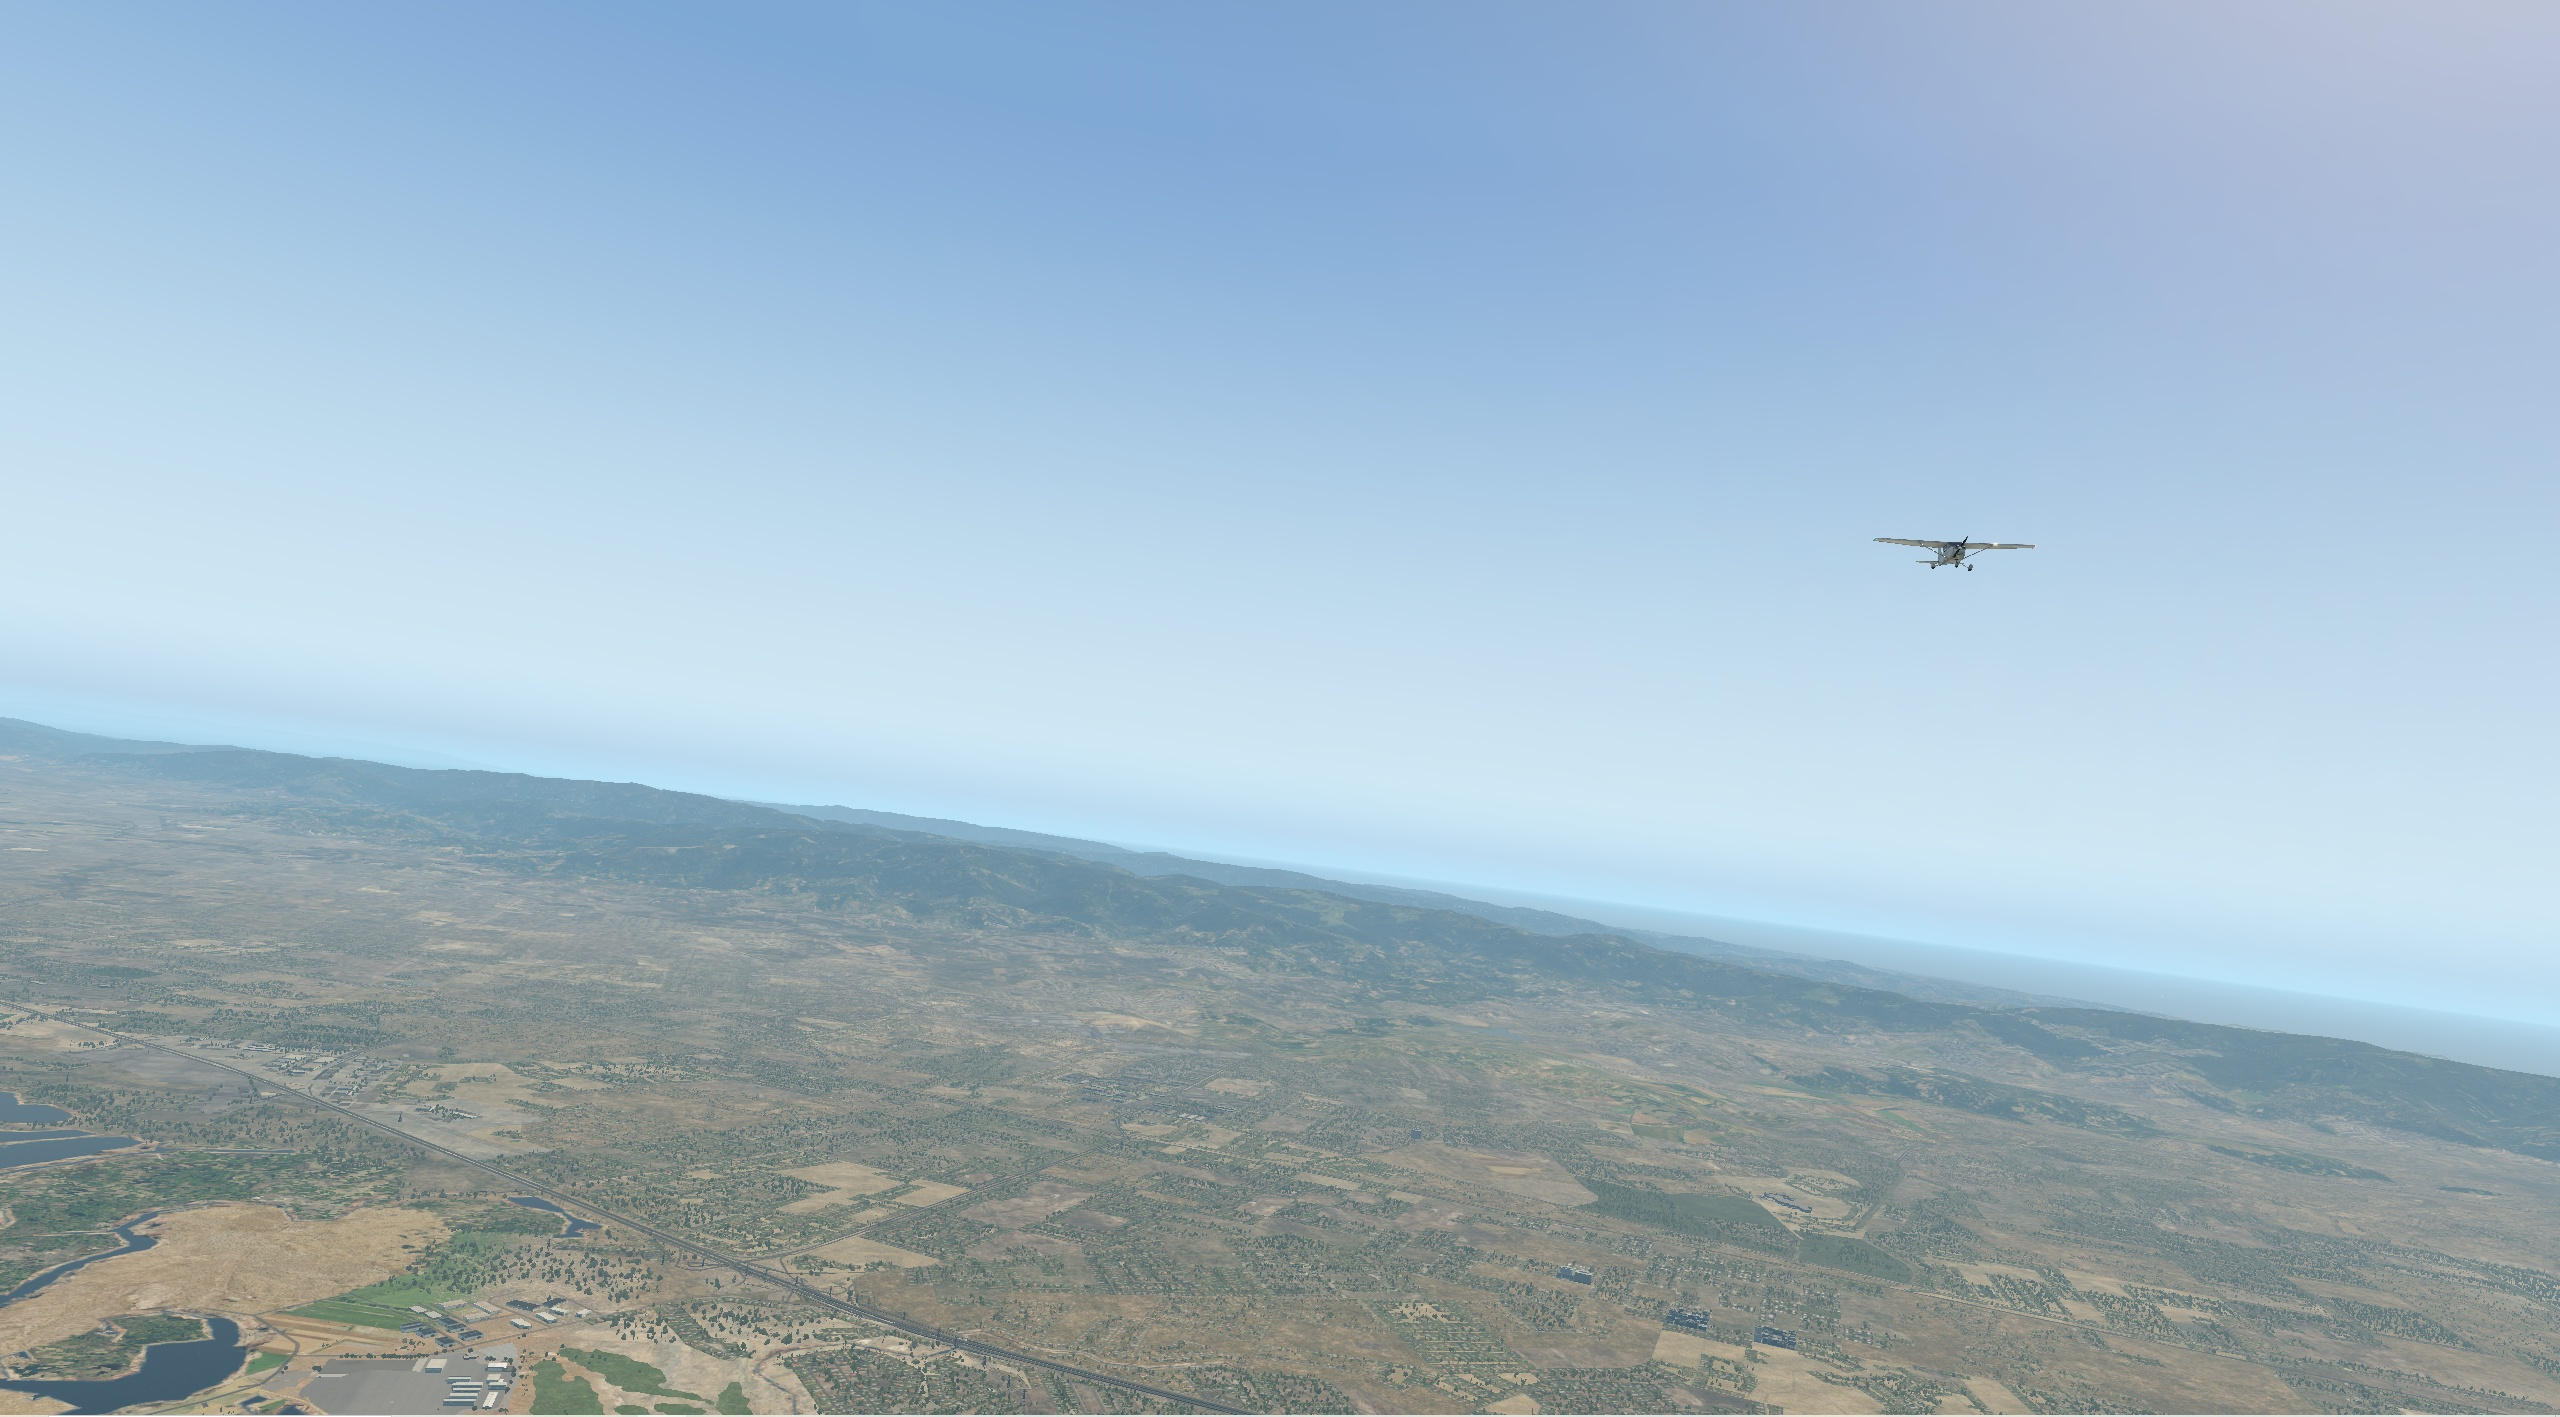aircraft: (1871, 522, 2036, 583)
